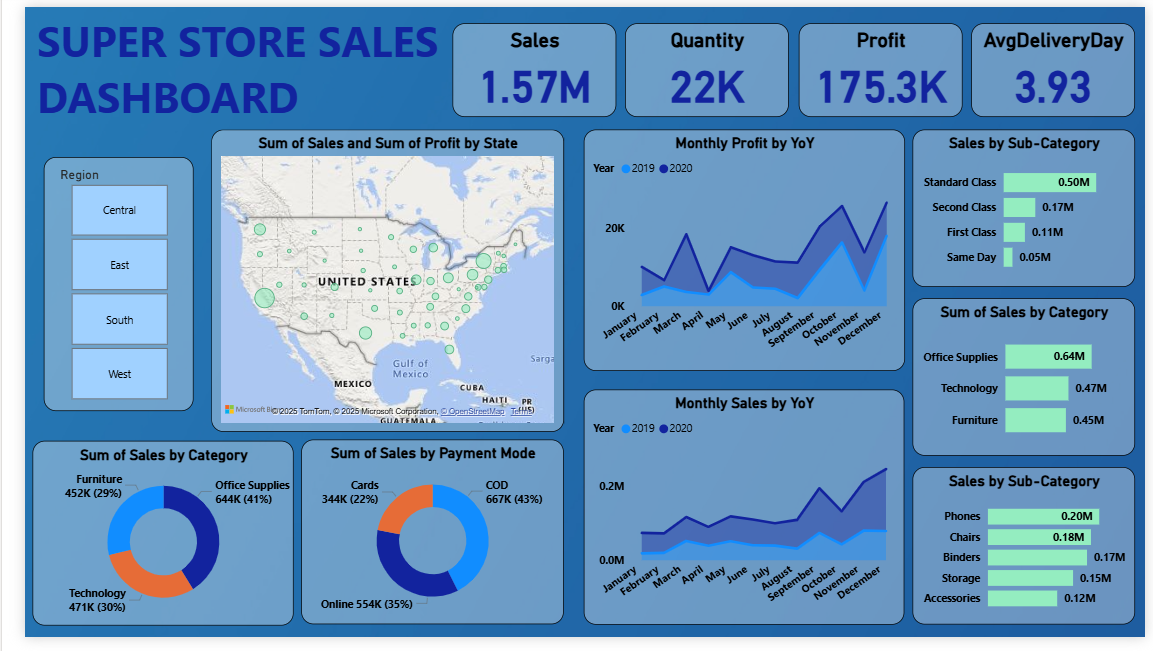

The dashboard page shown, as its layout file describes it:
{"tool":"powerbi","page":{"name":"Page 1","canvas":[1280,720],"ordinal":0},"visuals":[{"type":"clusteredBarChart","fields":{"Category":["SuperStore_Sales_Dataset.Category"],"Y":["Sum(SuperStore_Sales_Dataset.Sales)"]},"box":[1014.3,332.9,254.3,180],"z":0},{"type":"clusteredBarChart","title":"Sales by Sub-Category","fields":{"Category":["SuperStore_Sales_Dataset.Sub-Category"],"Y":["Sum(SuperStore_Sales_Dataset.Sales)"]},"box":[1014.3,525.7,254.3,180],"z":1000},{"type":"clusteredBarChart","title":"Sales by Sub-Category","fields":{"Y":["Sum(SuperStore_Sales_Dataset.Sales)"],"Category":["SuperStore_Sales_Dataset.Ship Mode"]},"box":[1014.3,140,254.3,180],"z":2000},{"type":"stackedAreaChart","title":"Monthly Sales by YoY","fields":{"Y":["Sum(SuperStore_Sales_Dataset.Sales)"],"Series":["SuperStore_Sales_Dataset.Order Date.Variation.Date Hierarchy.Year"],"Category":["SuperStore_Sales_Dataset.Order Date.Variation.Date Hierarchy.Month","SuperStore_Sales_Dataset.Order Date.Variation.Date Hierarchy.Day"]},"box":[638.9,437,366.4,269],"z":3000},{"type":"stackedAreaChart","title":"Monthly Profit by YoY","fields":{"Series":["SuperStore_Sales_Dataset.Order Date.Variation.Date Hierarchy.Year"],"Category":["SuperStore_Sales_Dataset.Order Date.Variation.Date Hierarchy.Month","SuperStore_Sales_Dataset.Order Date.Variation.Date Hierarchy.Day"],"Y":["Sum(SuperStore_Sales_Dataset.Profit)"]},"box":[638.6,140,367.1,275.7],"z":4000},{"type":"map","fields":{"Category":["SuperStore_Sales_Dataset.State"],"Size":["Sum(SuperStore_Sales_Dataset.Sales)"]},"box":[212.9,140,402.9,345.7],"z":5000},{"type":"donutChart","fields":{"Category":["SuperStore_Sales_Dataset.Category"],"Y":["Sum(SuperStore_Sales_Dataset.Sales)"]},"box":[8.8,495,298.8,211.2],"z":6000},{"type":"donutChart","fields":{"Y":["Sum(SuperStore_Sales_Dataset.Sales)"],"Category":["SuperStore_Sales_Dataset.Payment Mode"]},"box":[315.7,494.3,300,211.4],"z":7000},{"type":"slicer","fields":{"Values":["SuperStore_Sales_Dataset.Region"]},"box":[21.4,171.4,171.4,290],"z":8000},{"type":"textbox","box":[8.6,0,540,152.9],"z":9000},{"type":"textbox","box":[0,132.5,227.3,51.8],"z":10000},{"type":"card","title":"Sales","fields":{"Values":["Sum(SuperStore_Sales_Dataset.Sales)"]},"box":[488.6,18.6,187.1,107.1],"z":11000},{"type":"card","title":"Quantity","fields":{"Values":["Sum(SuperStore_Sales_Dataset.Quantity)"]},"box":[685.7,18.6,187.1,107.1],"z":12000},{"type":"card","title":"Profit","fields":{"Values":["Sum(SuperStore_Sales_Dataset.Profit)"]},"box":[884.3,18.6,187.1,107.1],"z":13000},{"type":"card","title":"AvgDeliveryDay","fields":{"Values":["Avg(SuperStore_Sales_Dataset.AvgDelivery)"]},"box":[1081.4,18.6,187.1,107.1],"z":14000}]}

Visuals, with their boxes in screenshot pixels (x1, y1, x2, y2), scaled from the page's 1280x720 canvas onto the 1153x651 screenshot:
clusteredBarChart - SuperStore_Sales_Dataset.Category x Sum(SuperStore_Sales_Dataset.Sales): Rect(914, 301, 1143, 464)
"Sales by Sub-Category" clusteredBarChart: Rect(914, 475, 1143, 638)
"Sales by Sub-Category" clusteredBarChart: Rect(914, 127, 1143, 289)
"Monthly Sales by YoY" stackedAreaChart: Rect(576, 395, 906, 638)
"Monthly Profit by YoY" stackedAreaChart: Rect(575, 127, 906, 376)
map - SuperStore_Sales_Dataset.State x Sum(SuperStore_Sales_Dataset.Sales): Rect(192, 127, 555, 439)
donutChart - SuperStore_Sales_Dataset.Category x Sum(SuperStore_Sales_Dataset.Sales): Rect(8, 448, 277, 639)
donutChart - Sum(SuperStore_Sales_Dataset.Sales) x SuperStore_Sales_Dataset.Payment Mode: Rect(284, 447, 555, 638)
slicer - SuperStore_Sales_Dataset.Region: Rect(19, 155, 174, 417)
textbox: Rect(8, 0, 494, 138)
textbox: Rect(0, 120, 205, 167)
"Sales" card: Rect(440, 17, 609, 114)
"Quantity" card: Rect(618, 17, 786, 114)
"Profit" card: Rect(797, 17, 965, 114)
"AvgDeliveryDay" card: Rect(974, 17, 1143, 114)
